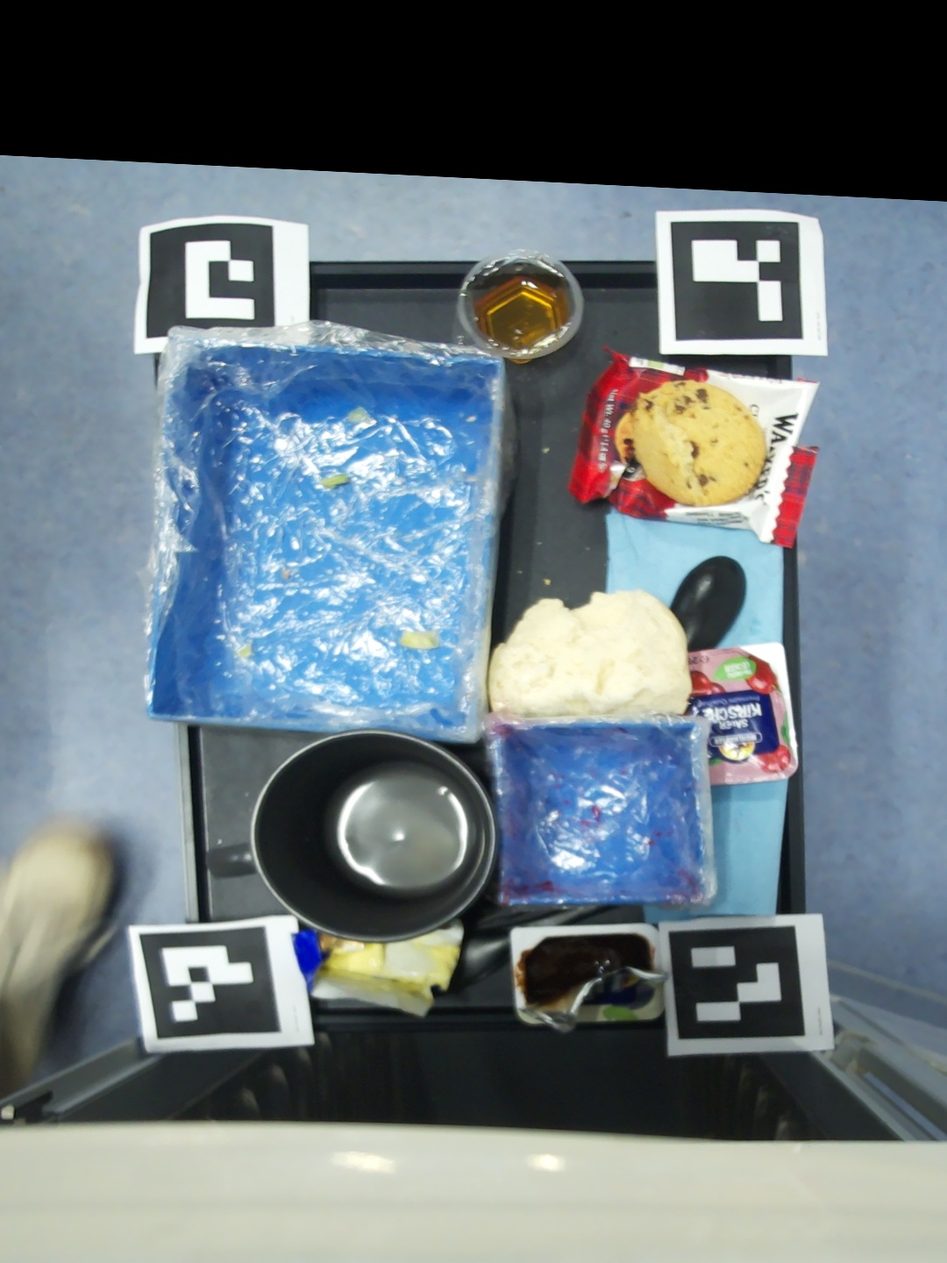bread_roll: (488, 590, 692, 716)
butter: (292, 918, 463, 1018)
cherry_jam: (683, 643, 798, 786)
coffee_cup: (206, 730, 497, 942)
cookie: (567, 346, 820, 548)
honey: (452, 248, 585, 365)
plum_jam: (510, 923, 667, 1035)
wrap_half_1: (399, 632, 438, 649), (320, 474, 348, 488), (348, 408, 370, 423), (239, 645, 253, 658), (282, 570, 291, 578)
